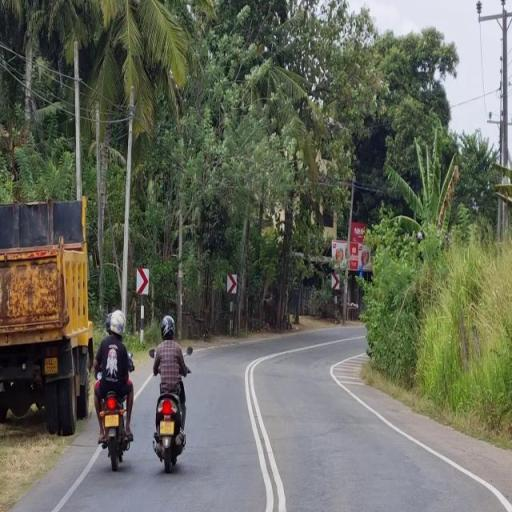double_white_line: (245, 354, 290, 511), (52, 447, 102, 512)
